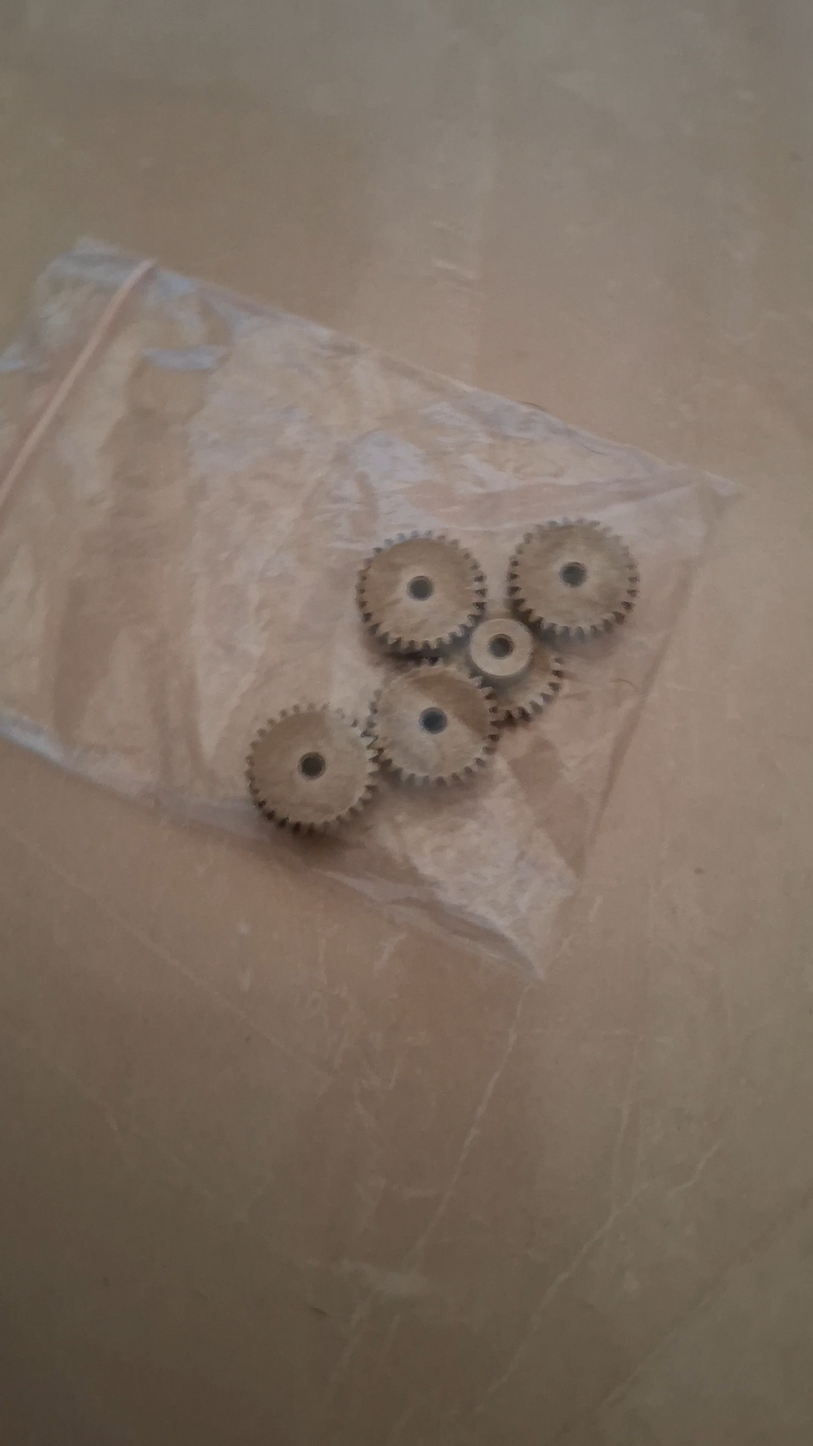spur gear: (247, 705, 377, 834), (357, 533, 485, 656), (508, 519, 638, 638), (371, 661, 498, 782), (467, 616, 563, 723)
